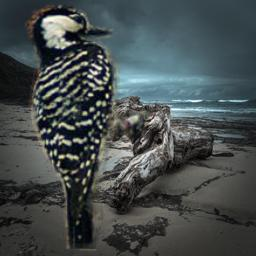Woodpecker: (25, 0, 156, 251)
